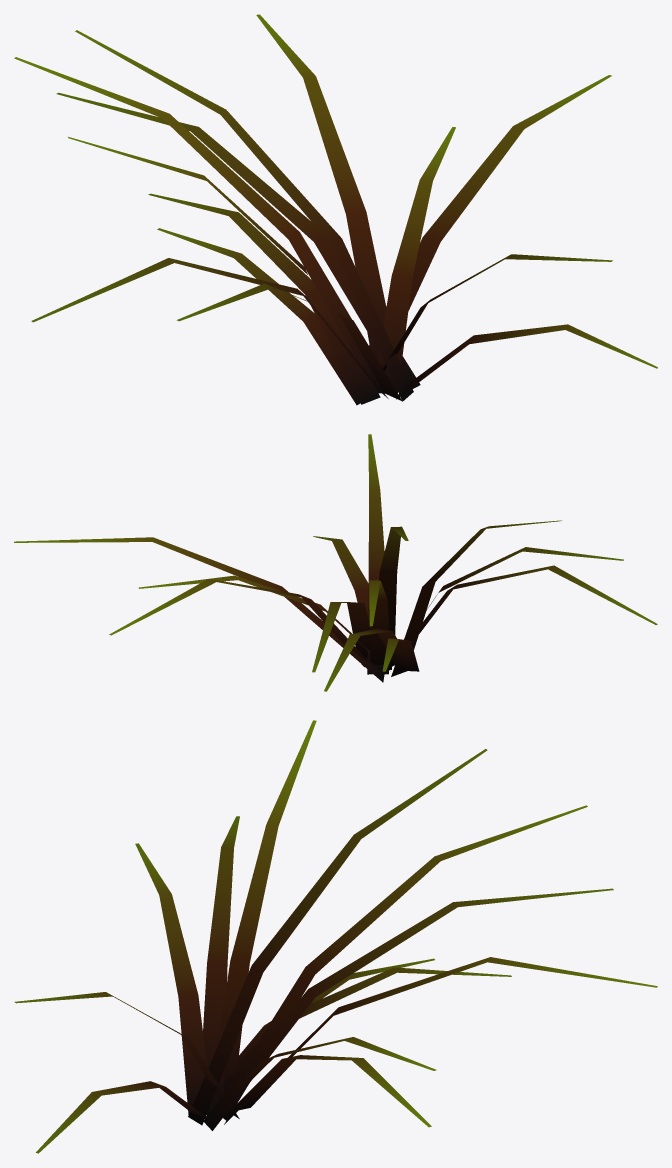
File: grass_tuft_a.glb
3 views of the same model, one above another, from view 1: azimuth 30°, elevation 25°; view 2: azimuth 150°, elevation 25°; view 3: azimuth 270°, elevation 25° (orthographic). The views are drawn at different scales.
Visible parts, largest first — view 1: grass_tuft_a; view 2: grass_tuft_a; view 3: grass_tuft_a.
Boxes of the visible parts, bbox=[...] form: grass_tuft_a: bbox=[14, 14, 657, 405]; grass_tuft_a: bbox=[14, 434, 657, 691]; grass_tuft_a: bbox=[14, 720, 657, 1153].
Size of the model in its own units: 0.835 by 0.3511 by 0.7134.
1 material, 1 textured.
